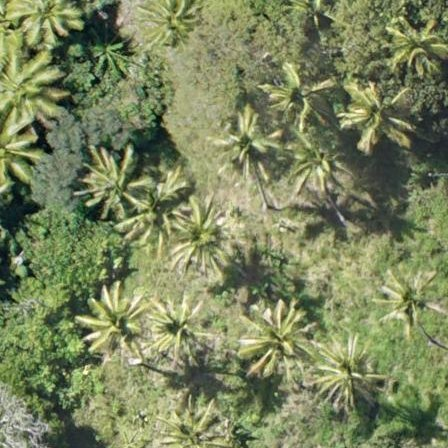palm_tree: (73, 146, 150, 228), (162, 196, 239, 278), (80, 281, 154, 360), (241, 310, 311, 376), (1, 40, 54, 122), (311, 339, 376, 404), (6, 1, 85, 54), (146, 293, 209, 359), (347, 83, 411, 145), (215, 111, 276, 173), (377, 269, 440, 329), (264, 65, 328, 123), (136, 1, 201, 49), (394, 15, 448, 71), (289, 135, 343, 187)
